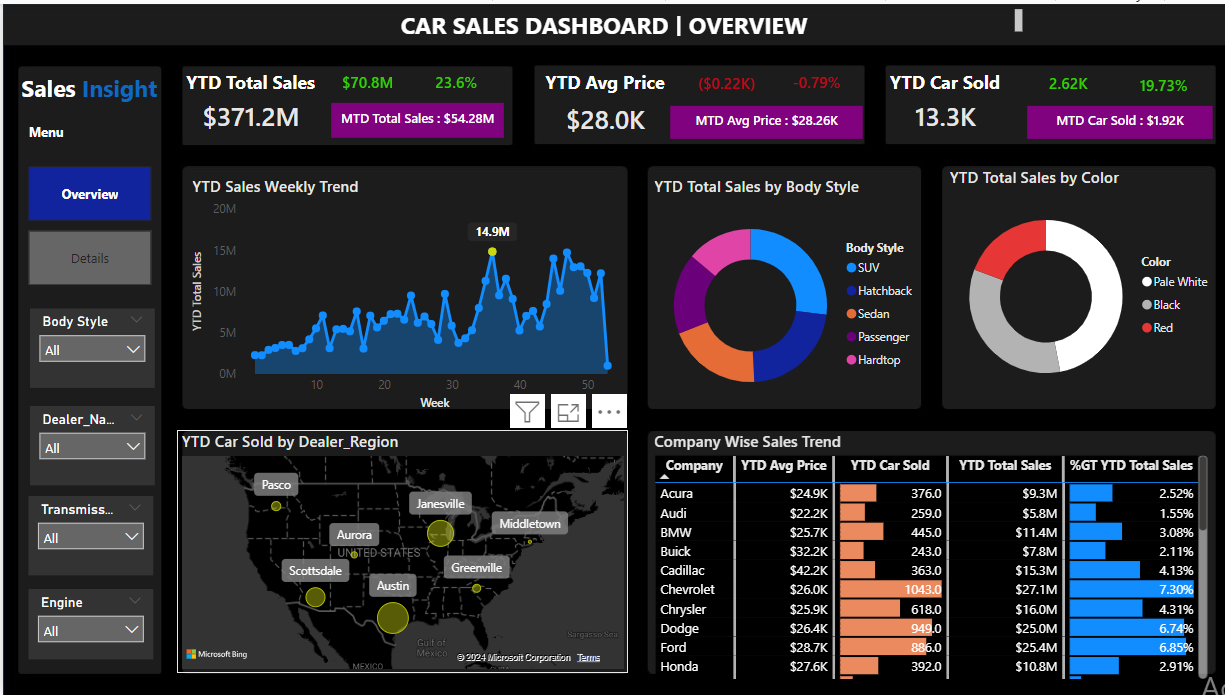

Layout of this report page (visuals, bound fields, positions):
{"tool":"powerbi","page":{"name":"Overview","canvas":[1280,720],"ordinal":0},"visuals":[{"type":"card","title":"YTD Total Sales","fields":{"Values":["car_data.YTD Total Sales"]},"box":[172,68,172,71.8],"z":0},{"type":"card","fields":{"Values":["car_data.Sales diff"]},"box":[334.5,60.5,90.7,43.5],"z":1000},{"type":"card","fields":{"Values":["car_data.YoY Sales Growth"]},"box":[427.1,60.5,90.7,43.5],"z":2000},{"type":"card","fields":{"Values":["car_data.MTD KPI"]},"box":[342,103.9,179.5,35.9],"z":3000},{"type":"card","title":"YTD Avg Price","fields":{"Values":["car_data.YTD Avg Price"]},"box":[551.8,68,151.2,79.4],"z":4000},{"type":"card","fields":{"Values":["car_data.Avg Price Diff"]},"box":[708.7,62.4,90.7,43.5],"z":5000},{"type":"card","fields":{"Values":["car_data.YoY Avg Price Growth"]},"box":[801.3,60.5,90.7,43.5],"z":6000},{"type":"card","fields":{"Values":["car_data.MTD Avg Price KPI"]},"box":[695.4,105.8,200.3,34],"z":7000},{"type":"card","title":"YTD Car Sold","fields":{"Values":["car_data.YTD Car Sold"]},"box":[895.8,68,172,71.8],"z":8000},{"type":"card","fields":{"Values":["car_data.Car Sold Diff"]},"box":[1063.9,62.4,90.7,43.5],"z":9000},{"type":"card","fields":{"Values":["car_data.YoY Car Sold Growth"]},"box":[1158.4,64.3,102,43.5],"z":10000},{"type":"card","fields":{"Values":["car_data.MTD Car sold KPI"]},"box":[1067.7,105.8,192.8,34],"z":11000},{"type":"areaChart","title":"YTD Sales  Weekly Trend","fields":{"Category":["Calendar Table.Week"],"Y":["Sum(car_data.Price ($))","car_data.Max Point on Area Chart"]},"box":[192.2,178.2,459.5,250.1],"z":12000},{"type":"donutChart","fields":{"Category":["car_data.Body Style"],"Y":["car_data.YTD Total Sales"]},"box":[673.6,178.2,287.6,250.1],"z":13000},{"type":"donutChart","fields":{"Y":["car_data.YTD Total Sales"],"Category":["car_data.Color"]},"box":[981.6,168.8,287.6,250.1],"z":14000},{"type":"map","fields":{"Size":["car_data.YTD Car Sold"],"Category":["car_data.Dealer_Region"]},"box":[181.3,443.9,470.5,253.2],"z":15000},{"type":"tableEx","title":"Company Wise Sales Trend","fields":{"Values":["car_data.Company","car_data.YTD Avg Price","car_data.YTD Car Sold","car_data.YTD Total Sales","Divide(car_data.YTD Total Sales, ScopedEval(car_data.YTD Total Sales, []))"]},"box":[673.6,443.9,586.1,264.1],"z":16000},{"type":"textbox","box":[517.3,0,550.2,37.5],"z":17000},{"type":"slicer","fields":{"Values":["car_data.Body Style"]},"box":[28.1,317.3,129.7,82.8],"z":18000},{"type":"slicer","fields":{"Values":["car_data.Dealer_Name"]},"box":[28.1,418.9,129.7,82.8],"z":19000},{"type":"slicer","fields":{"Values":["car_data.Transmission"]},"box":[26.6,512.7,129.7,82.8],"z":20000},{"type":"slicer","fields":{"Values":["car_data.Engine"]},"box":[26.6,609.6,129.7,73.5],"z":21000},{"type":"textbox","box":[14.1,65.6,167.2,56.3],"z":22000},{"type":"textbox","box":[21.9,118.8,76.6,29.7],"z":23000},{"type":"pageNavigator","box":[26.6,168.8,128.2,125],"z":24000},{"type":"slicer","fields":{"Values":["Calendar Table.Date"]},"box":[0,0,529.9,50],"z":25000}]}

Visuals, with their boxes in screenshot pixels (x1, y1, x2, y2), scaled from the page's 1280x720 canvas onto the 1225x695 screenshot:
"YTD Total Sales" card: (x1=165, y1=66, x2=329, y2=135)
card - car_data.Sales diff: (x1=320, y1=58, x2=407, y2=100)
card - car_data.YoY Sales Growth: (x1=409, y1=58, x2=496, y2=100)
card - car_data.MTD KPI: (x1=327, y1=100, x2=499, y2=135)
"YTD Avg Price" card: (x1=528, y1=66, x2=673, y2=142)
card - car_data.Avg Price Diff: (x1=678, y1=60, x2=765, y2=102)
card - car_data.YoY Avg Price Growth: (x1=767, y1=58, x2=854, y2=100)
card - car_data.MTD Avg Price KPI: (x1=666, y1=102, x2=857, y2=135)
"YTD Car Sold" card: (x1=857, y1=66, x2=1022, y2=135)
card - car_data.Car Sold Diff: (x1=1018, y1=60, x2=1105, y2=102)
card - car_data.YoY Car Sold Growth: (x1=1109, y1=62, x2=1206, y2=104)
card - car_data.MTD Car sold KPI: (x1=1022, y1=102, x2=1206, y2=135)
"YTD Sales  Weekly Trend" areaChart: (x1=184, y1=172, x2=624, y2=413)
donutChart - car_data.Body Style x car_data.YTD Total Sales: (x1=645, y1=172, x2=920, y2=413)
donutChart - car_data.YTD Total Sales x car_data.Color: (x1=939, y1=163, x2=1215, y2=404)
map - car_data.YTD Car Sold x car_data.Dealer_Region: (x1=174, y1=428, x2=624, y2=673)
"Company Wise Sales Trend" tableEx: (x1=645, y1=428, x2=1206, y2=683)
textbox: (x1=495, y1=0, x2=1022, y2=36)
slicer - car_data.Body Style: (x1=27, y1=306, x2=151, y2=386)
slicer - car_data.Dealer_Name: (x1=27, y1=404, x2=151, y2=484)
slicer - car_data.Transmission: (x1=25, y1=495, x2=150, y2=575)
slicer - car_data.Engine: (x1=25, y1=588, x2=150, y2=659)
textbox: (x1=13, y1=63, x2=174, y2=118)
textbox: (x1=21, y1=115, x2=94, y2=143)
pageNavigator: (x1=25, y1=163, x2=148, y2=284)
slicer - Calendar Table.Date: (x1=0, y1=0, x2=507, y2=48)
